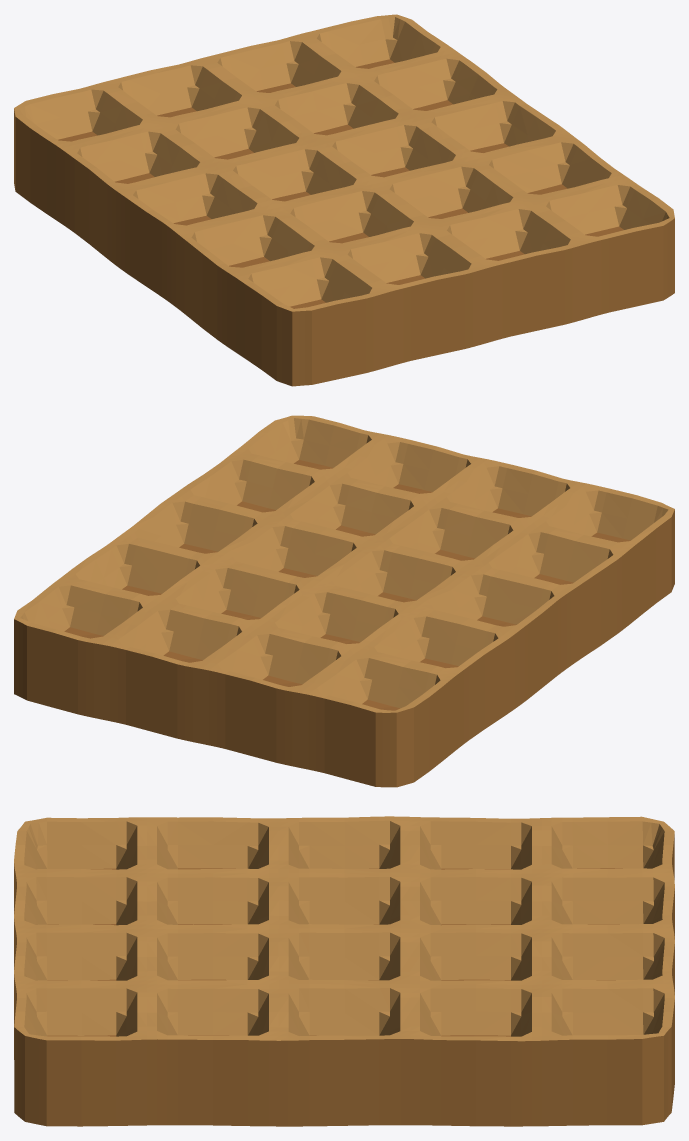
3 renders of one model, top to bottom at view 1: azimuth 30°, elevation 25°; view 2: azimuth 150°, elevation 25°; view 3: azimuth 270°, elevation 25°, orthographic. The views are drawn at different scales.
Parts seen in each view (by area): view 1: NEW335_Waffle_LOD1; view 2: NEW335_Waffle_LOD1; view 3: NEW335_Waffle_LOD1.
Part boxes in pixels (<box>): NEW335_Waffle_LOD1: <box>14,14,674,386</box>; NEW335_Waffle_LOD1: <box>14,415,674,787</box>; NEW335_Waffle_LOD1: <box>14,816,674,1126</box>.
Bounding box in the file's own units: 0.1006 × 0.0181 × 0.1256.
